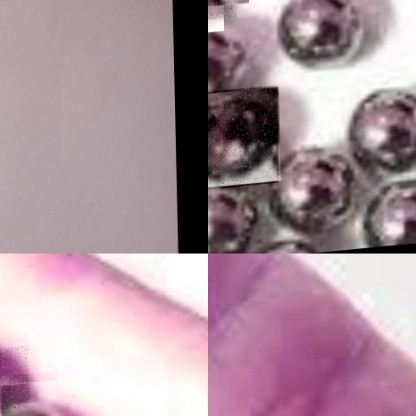ironball: (275, 0, 382, 88), (338, 84, 415, 197), (273, 141, 364, 233), (208, 86, 277, 191), (342, 84, 415, 176), (356, 173, 415, 251), (231, 227, 324, 253)
